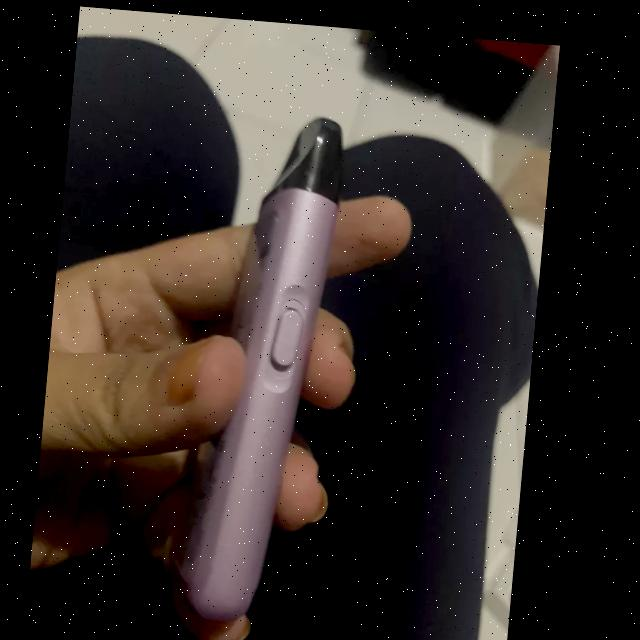vape: (174, 106, 352, 621)
